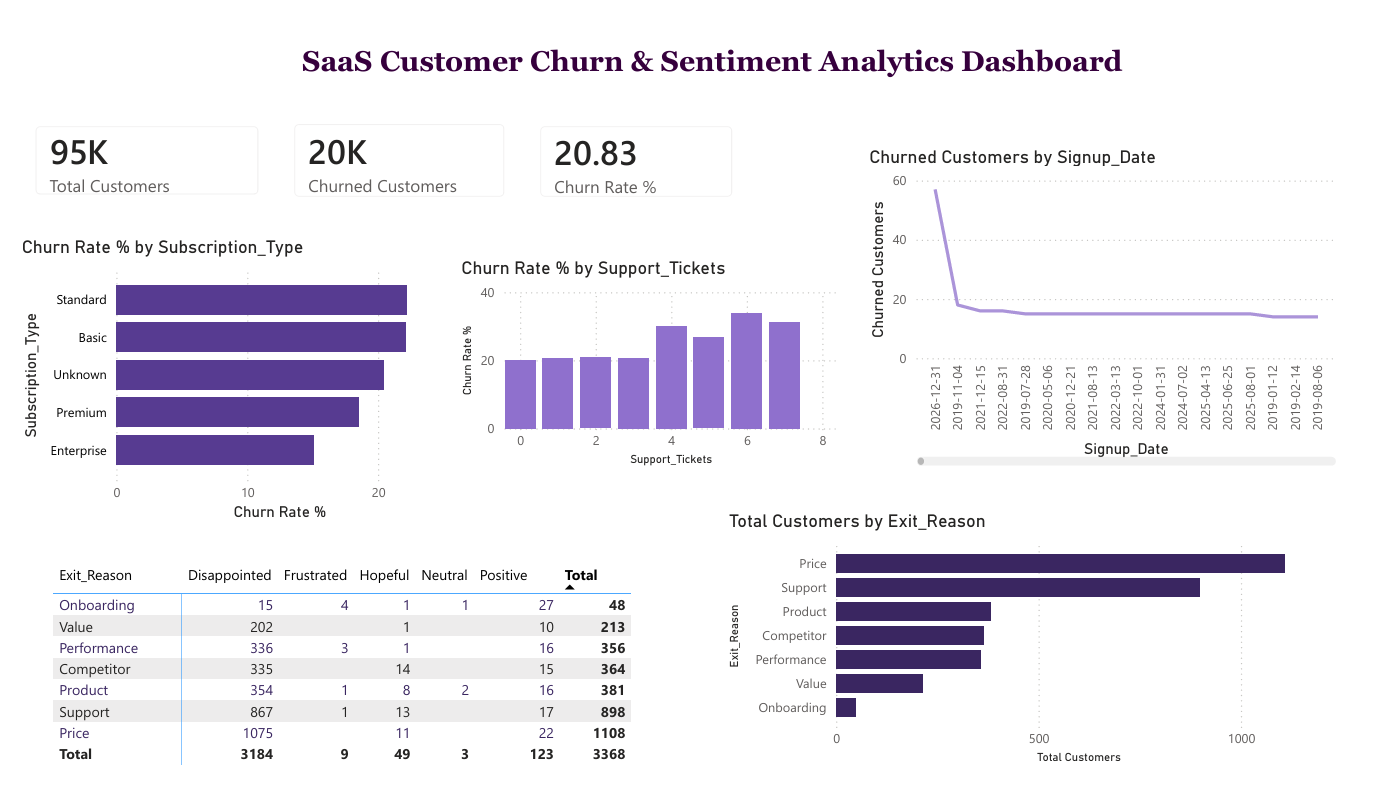

This screenshot's page, from the dashboard's own definition file:
{"tool":"powerbi","page":{"name":"Saas Churn Analysis","canvas":[1280,720],"ordinal":0},"visuals":[{"type":"cardVisual","fields":{"Data":["_Measures.Total Customers"]},"box":[1.1,89.5,242.9,98.8],"z":0},{"type":"cardVisual","fields":{"Data":["_Measures.Churn Rate %"]},"box":[474.6,89.5,214.1,100.2],"z":1000},{"type":"cardVisual","fields":{"Data":["_Measures.Churned Customers"]},"box":[244,88.1,230.5,101.5],"z":2000},{"type":"lineChart","fields":{"Category":["final_merged_data (1).Signup_Date"],"Y":["_Measures.Churned Customers"]},"box":[796.2,125,447.5,306.2],"z":3000},{"type":"clusteredBarChart","fields":{"Category":["final_merged_data (1).Subscription_Type"],"Y":["_Measures.Churn Rate %"]},"box":[0,210,412.5,272.5],"z":4000},{"type":"clusteredColumnChart","fields":{"Category":["final_merged_data (1).Support_Tickets"],"Y":["_Measures.Churn Rate %"]},"box":[412.5,230,363.8,201.2],"z":5000},{"type":"clusteredBarChart","fields":{"Category":["final_merged_data (1).Exit_Reason"],"Y":["_Measures.Total Customers"]},"box":[663.8,467.5,580,243.8],"z":6000},{"type":"pivotTable","fields":{"Rows":["final_merged_data (1).Exit_Reason"],"Columns":["final_merged_data (1).Customer_Mood"],"Values":["CountNonNull(final_merged_data (1).Customer_ID)"]},"box":[30,512.5,565,207.5],"z":7000},{"type":"textbox","box":[262.5,26.2,853.8,52.5],"z":8000}]}

Visuals, with their boxes in screenshot pixels (x1, y1, x2, y2), scaled from the page's 1280x720 canvas onto the 1378x793 screenshot:
cardVisual - _Measures.Total Customers: [1, 99, 263, 207]
cardVisual - _Measures.Churn Rate %: [511, 99, 741, 209]
cardVisual - _Measures.Churned Customers: [263, 97, 511, 209]
lineChart - final_merged_data (1).Signup_Date x _Measures.Churned Customers: [857, 138, 1339, 475]
clusteredBarChart - final_merged_data (1).Subscription_Type x _Measures.Churn Rate %: [0, 231, 444, 531]
clusteredColumnChart - final_merged_data (1).Support_Tickets x _Measures.Churn Rate %: [444, 253, 836, 475]
clusteredBarChart - final_merged_data (1).Exit_Reason x _Measures.Total Customers: [715, 515, 1339, 783]
pivotTable - final_merged_data (1).Exit_Reason x final_merged_data (1).Customer_Mood: [32, 564, 641, 792]
textbox: [283, 29, 1202, 87]
